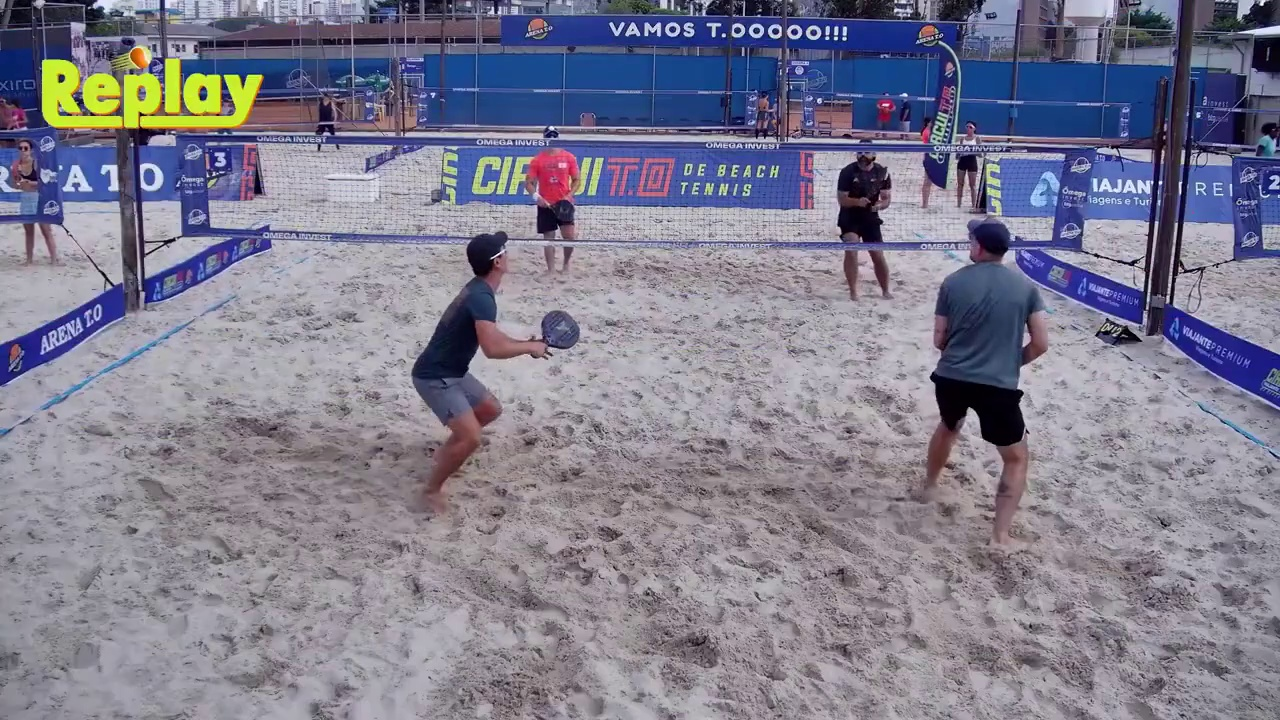court_line: (547, 0, 668, 525), (643, 0, 803, 246)
